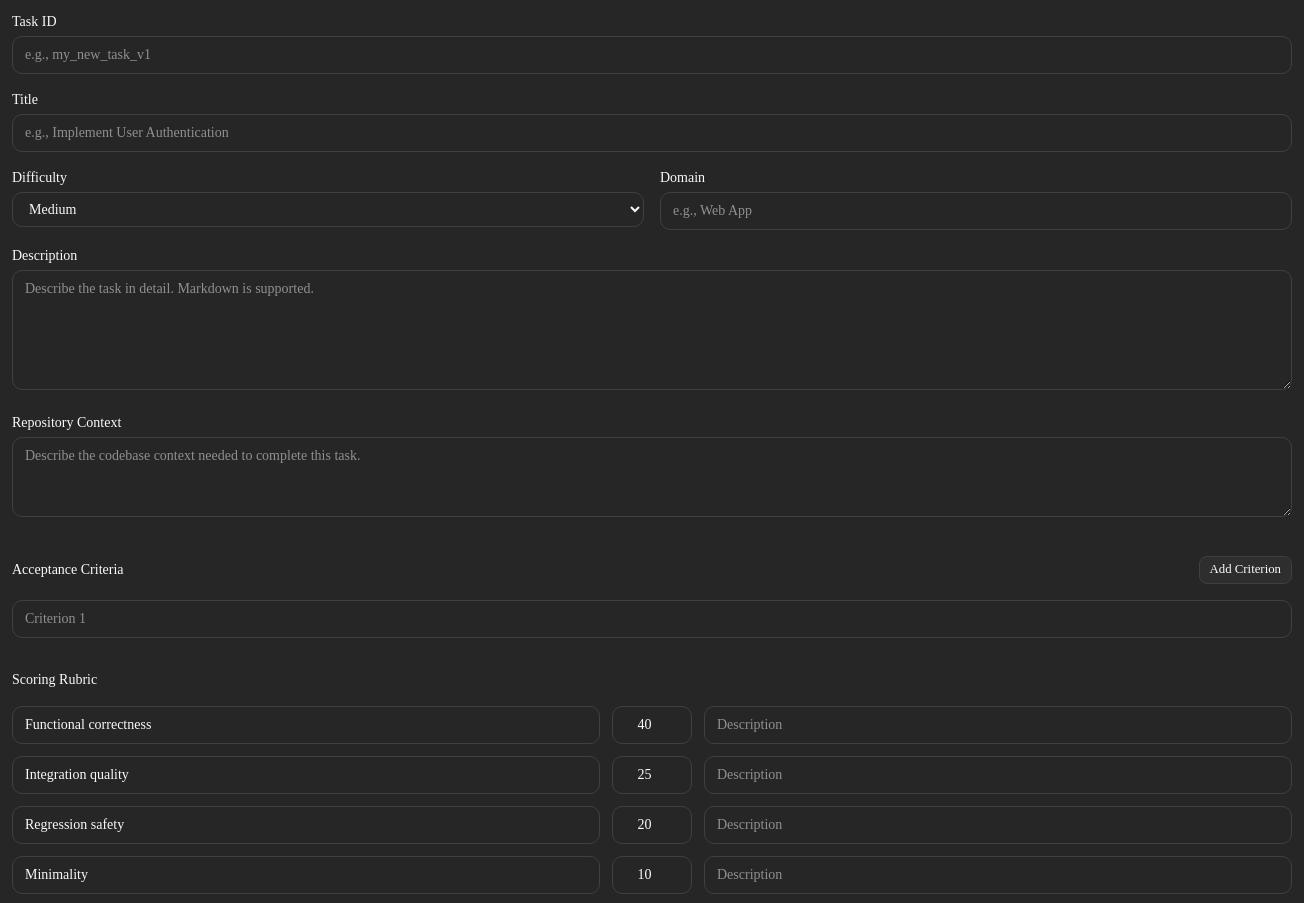
Test case: TaskEditor › can add and remove acceptance criteria
What coordinates should you click on to do the following:
click the button "Add Criterion"
I would click on:
 (1245, 570)
Its box is [1198,556,1292,584].
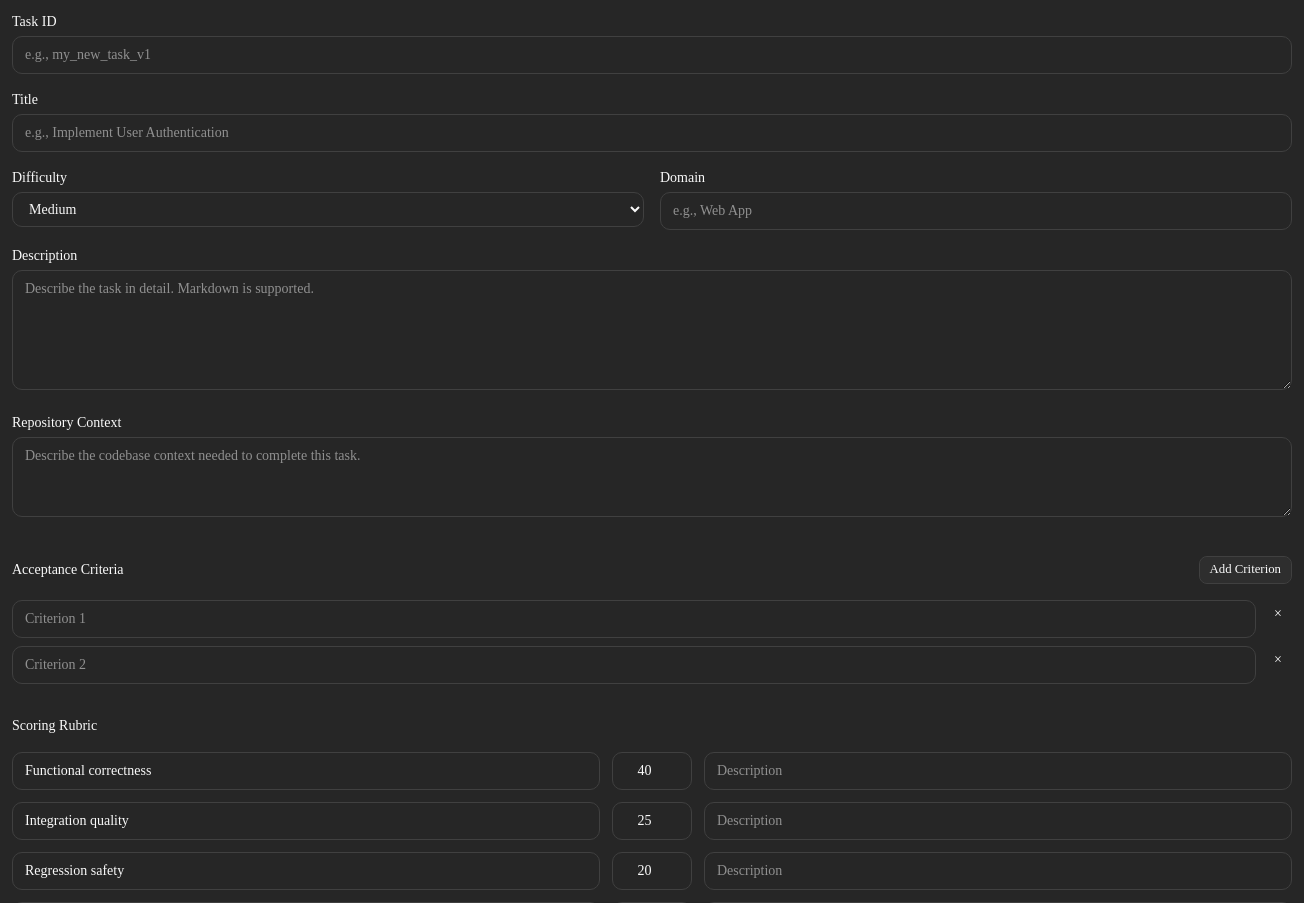
Expected: the number of fields with placeholder "Criterion 1" is 2, [12,600,1256,638]; [12,646,1256,684]
